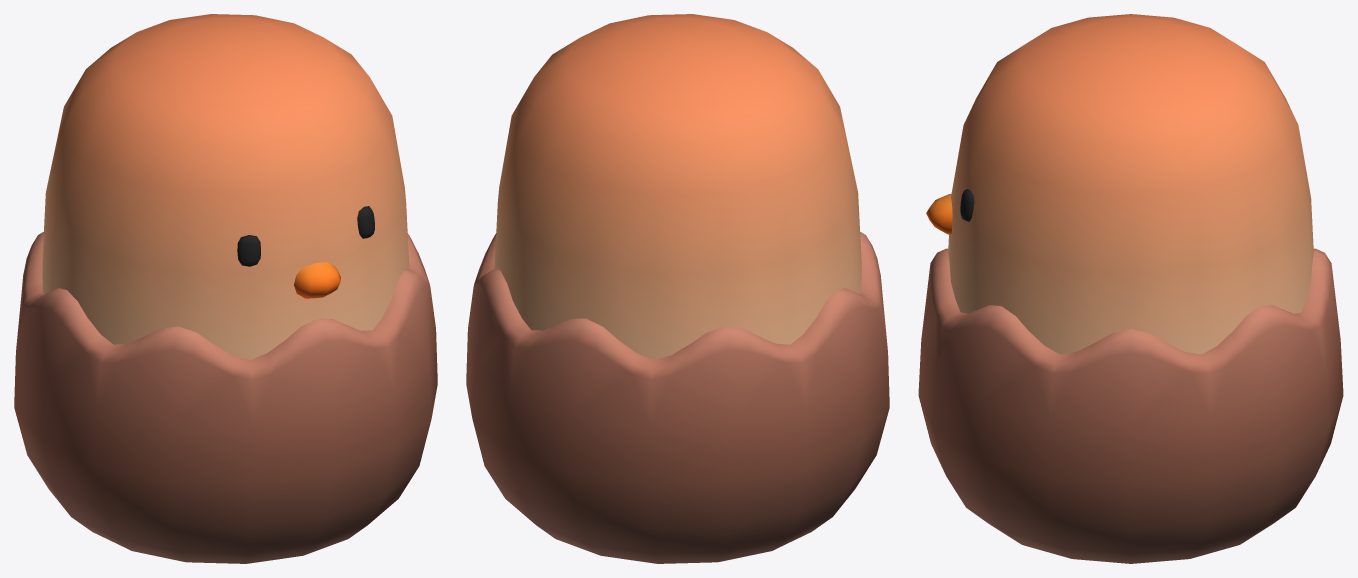
The model's file is Night_Lamp_01.fbx.
3 renders of one model, left to right at view 1: azimuth 30°, elevation 25°; view 2: azimuth 150°, elevation 25°; view 3: azimuth 270°, elevation 25°, orthographic.
Visible parts, largest first — view 1: Night_Lamp_01; view 2: Night_Lamp_01; view 3: Night_Lamp_01.
Part boxes in pixels (bbox=[...]): Night_Lamp_01: bbox=[14, 14, 437, 563]; Night_Lamp_01: bbox=[466, 14, 889, 563]; Night_Lamp_01: bbox=[918, 14, 1343, 563].
Bounding box in the file's own units: 12.59 × 15.28 × 12.59.
